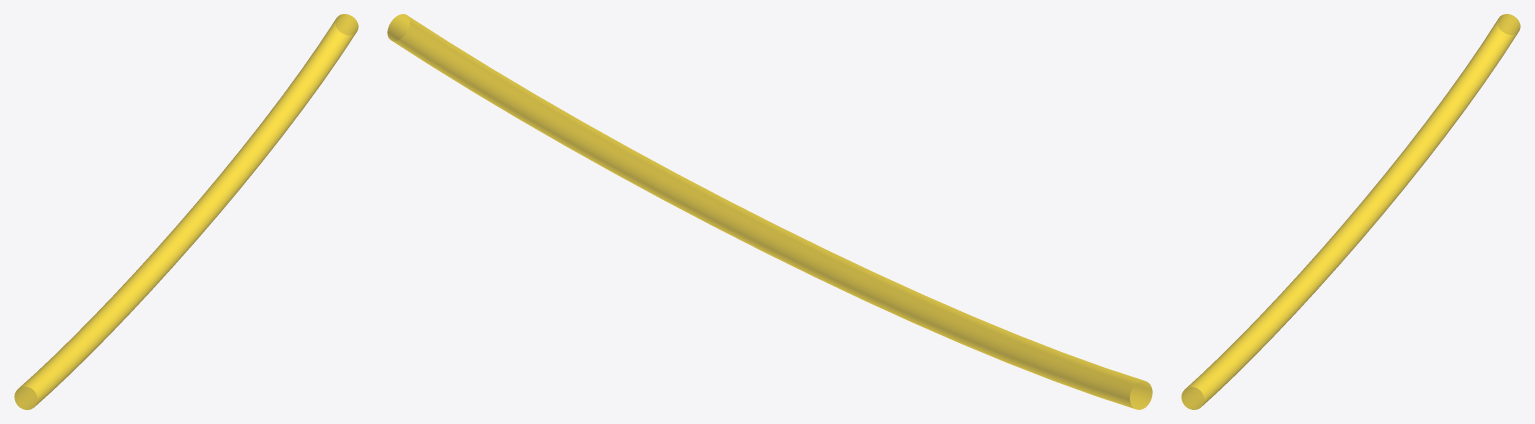
The model's file is Event_100608114_track_120.fbx.
3 views of the same model, side by side, from view 1: azimuth 90°, elevation 25°; view 2: azimuth 150°, elevation 25°; view 3: azimuth 270°, elevation 25° (orthographic). The views are drawn at different scales.
Parts seen in each view (by area): view 1: Model; view 2: Model; view 3: Model.
Part boxes in pixels (bbox=[...]): Model: bbox=[14, 14, 358, 409]; Model: bbox=[387, 14, 1152, 409]; Model: bbox=[1181, 14, 1520, 409].
Bounding box in the file's own units: 1.46 × 0.0821 × 0.5582.
